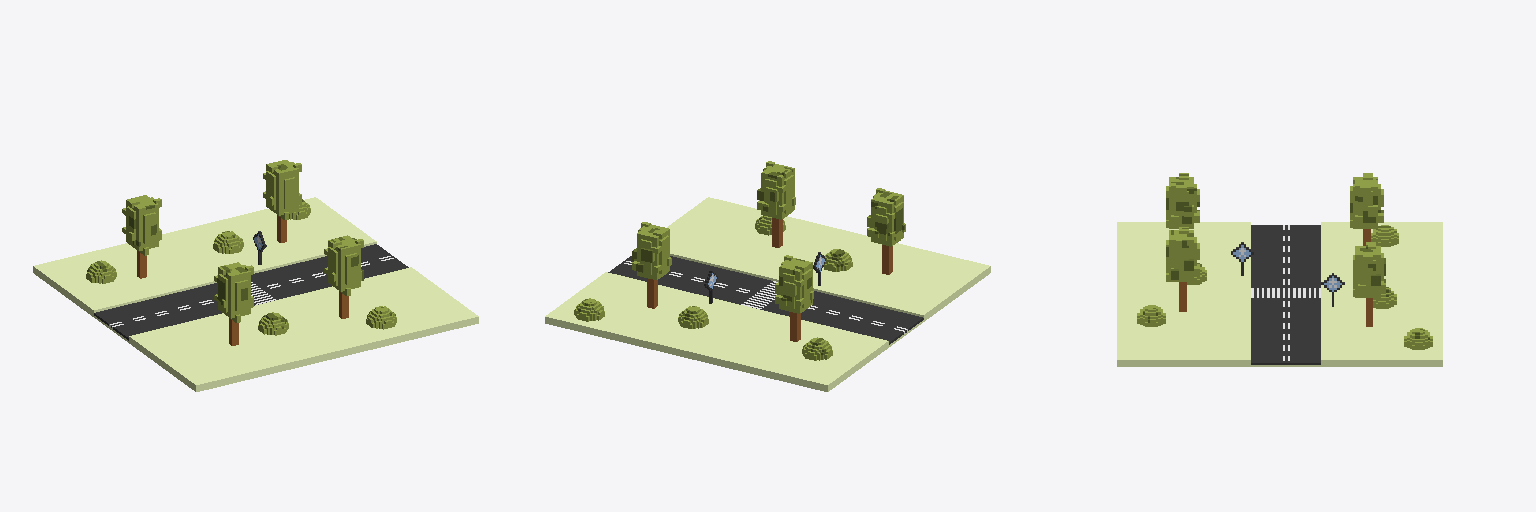
The picture shows the model from 3 angles: view 1: azimuth 30°, elevation 25°; view 2: azimuth 150°, elevation 25°; view 3: azimuth 270°, elevation 25°; orthographic projection.
Visible parts, largest first — view 1: object 1; view 2: object 1; view 3: object 1.
Part boxes in pixels (bbox=[...]): object 1: bbox=[33, 160, 478, 391]; object 1: bbox=[545, 161, 990, 391]; object 1: bbox=[1117, 173, 1442, 366].
Size of the model in its own units: 12.6 by 3.6 by 12.6.
1 materials, 1 textured.